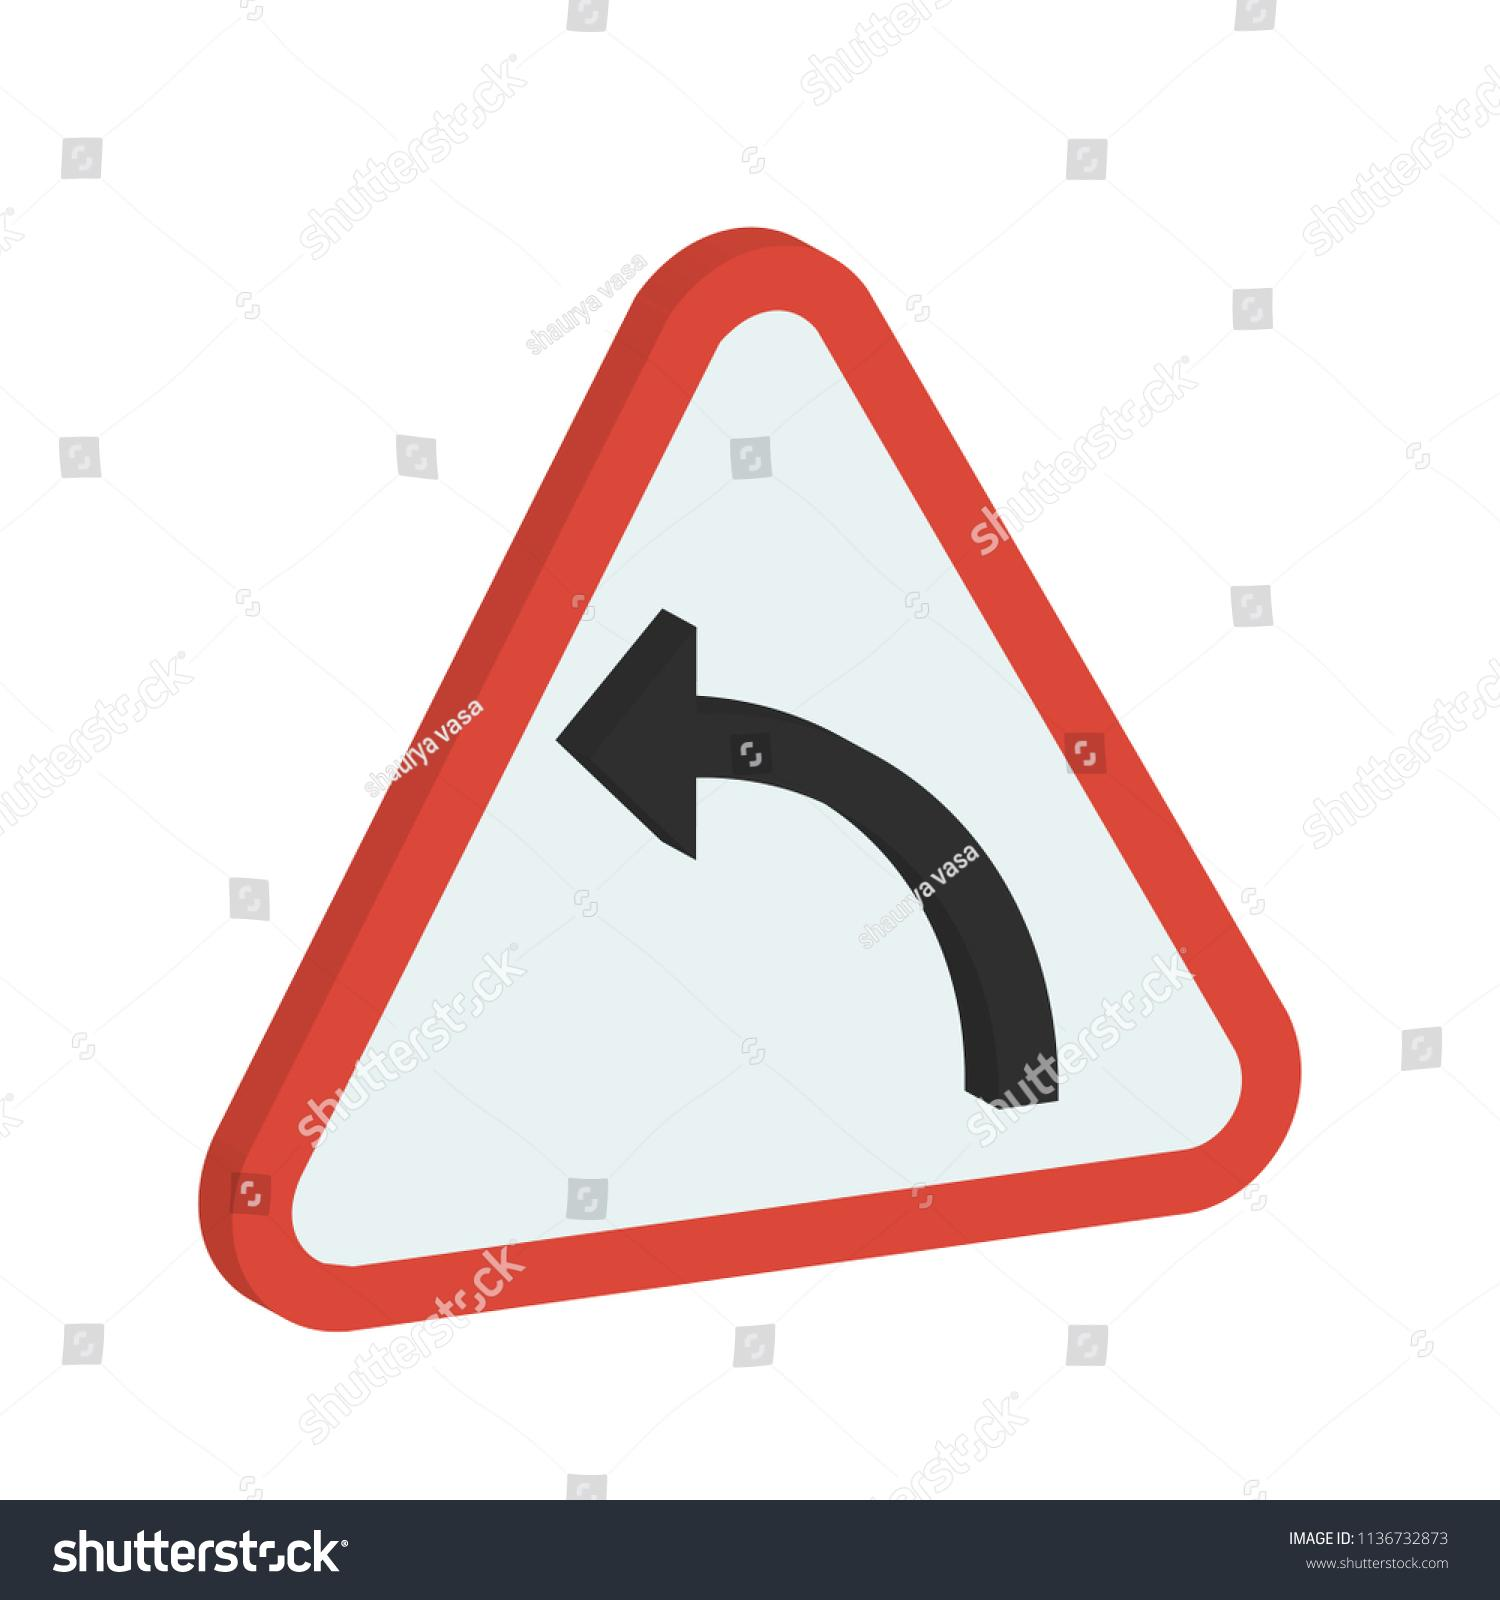Left hand curve: (127, 247, 1406, 1338)
